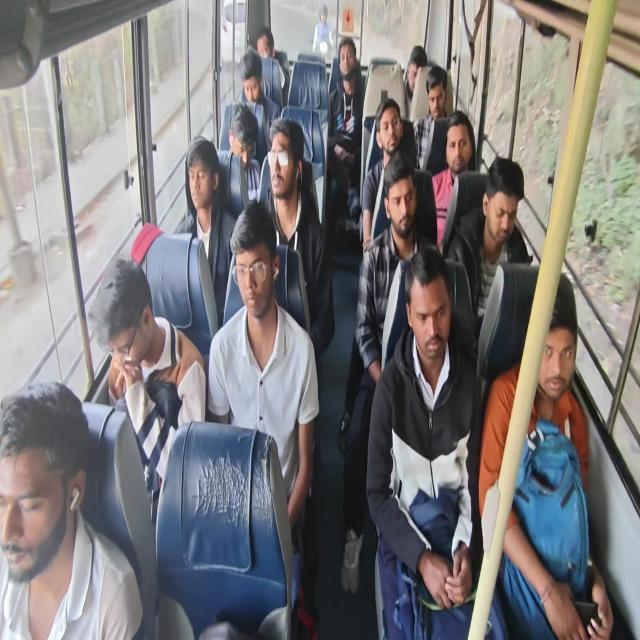person: (365, 245, 508, 639), (478, 271, 614, 639), (206, 199, 320, 632), (339, 153, 438, 594), (0, 380, 143, 639), (88, 256, 206, 525), (261, 116, 335, 356), (446, 156, 530, 342), (177, 137, 237, 327), (326, 36, 364, 232), (361, 98, 406, 254), (431, 110, 476, 251), (412, 64, 449, 170), (238, 50, 280, 132), (228, 102, 261, 204), (256, 26, 286, 105), (403, 45, 427, 120), (312, 3, 333, 55)
